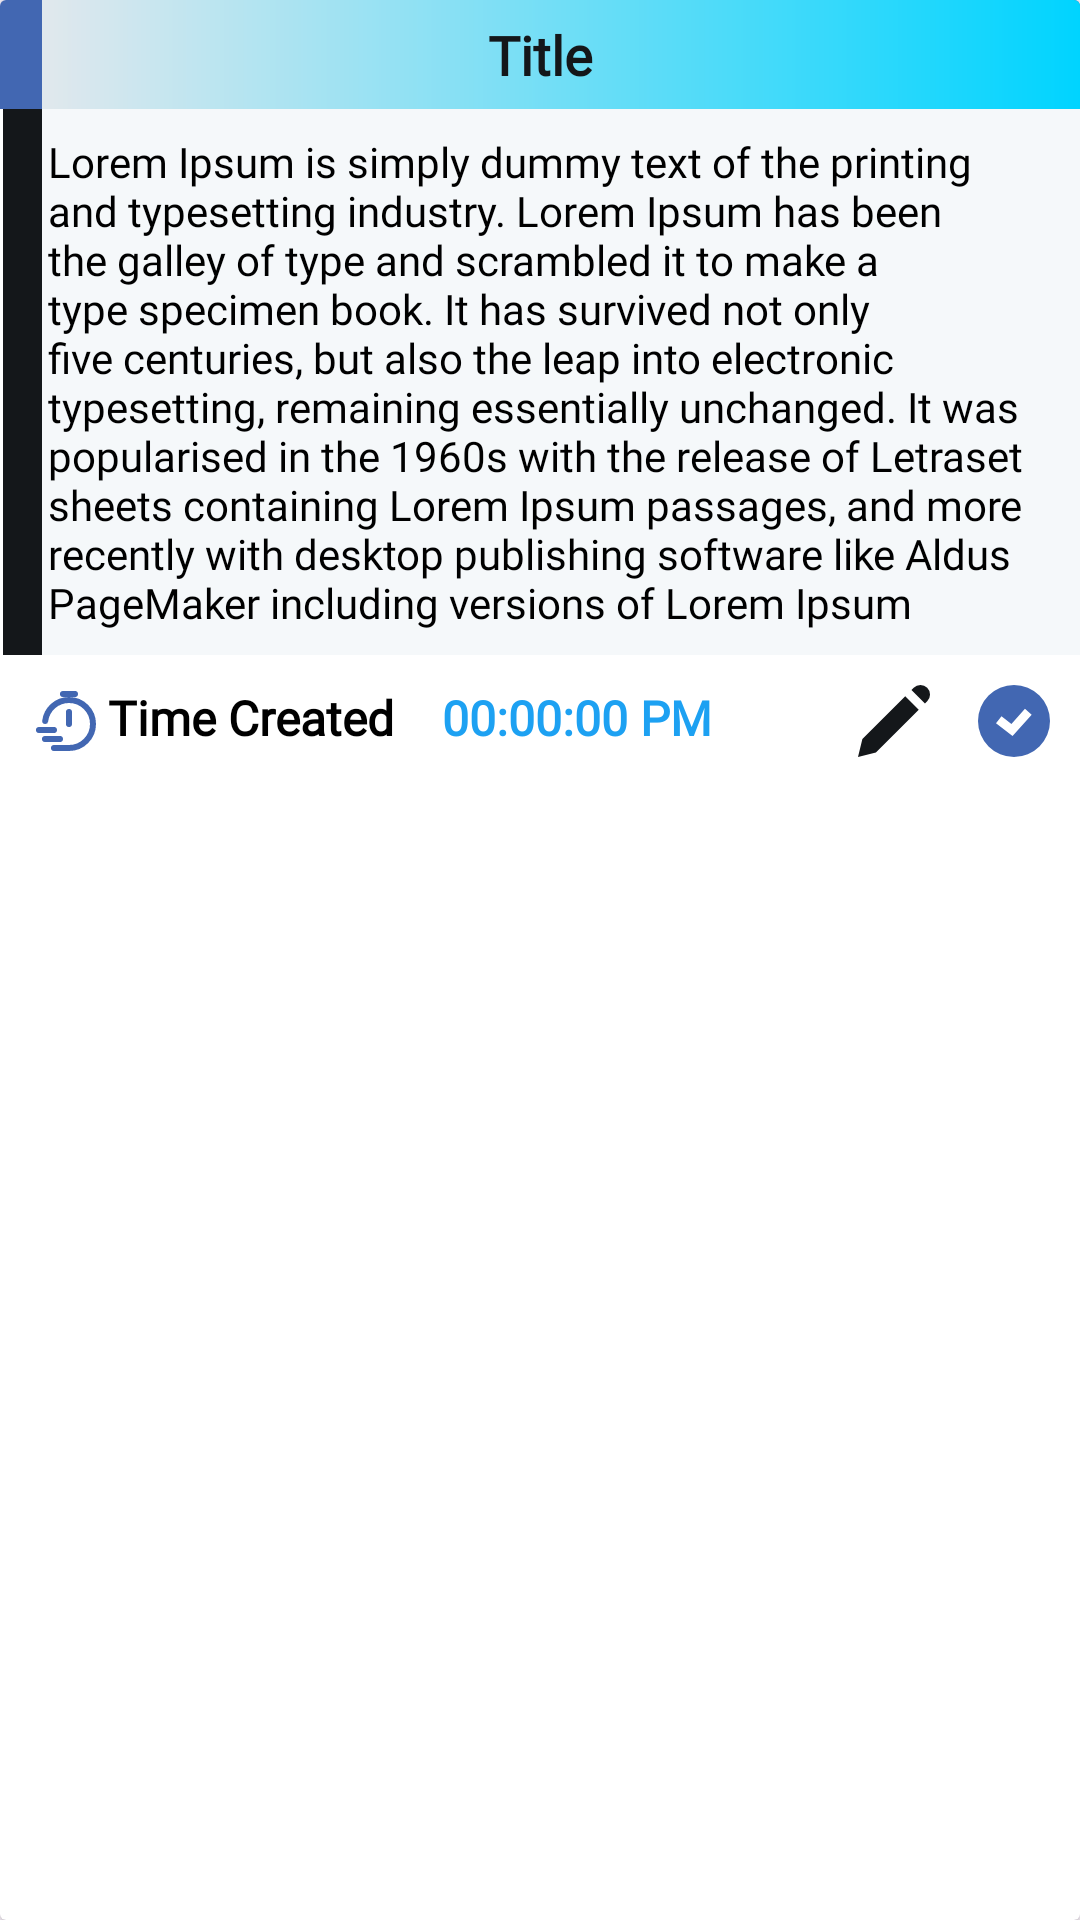

Icon click points for this 1080×1920 phone screenshot, format point (x, y):
done: point (1014, 721)
